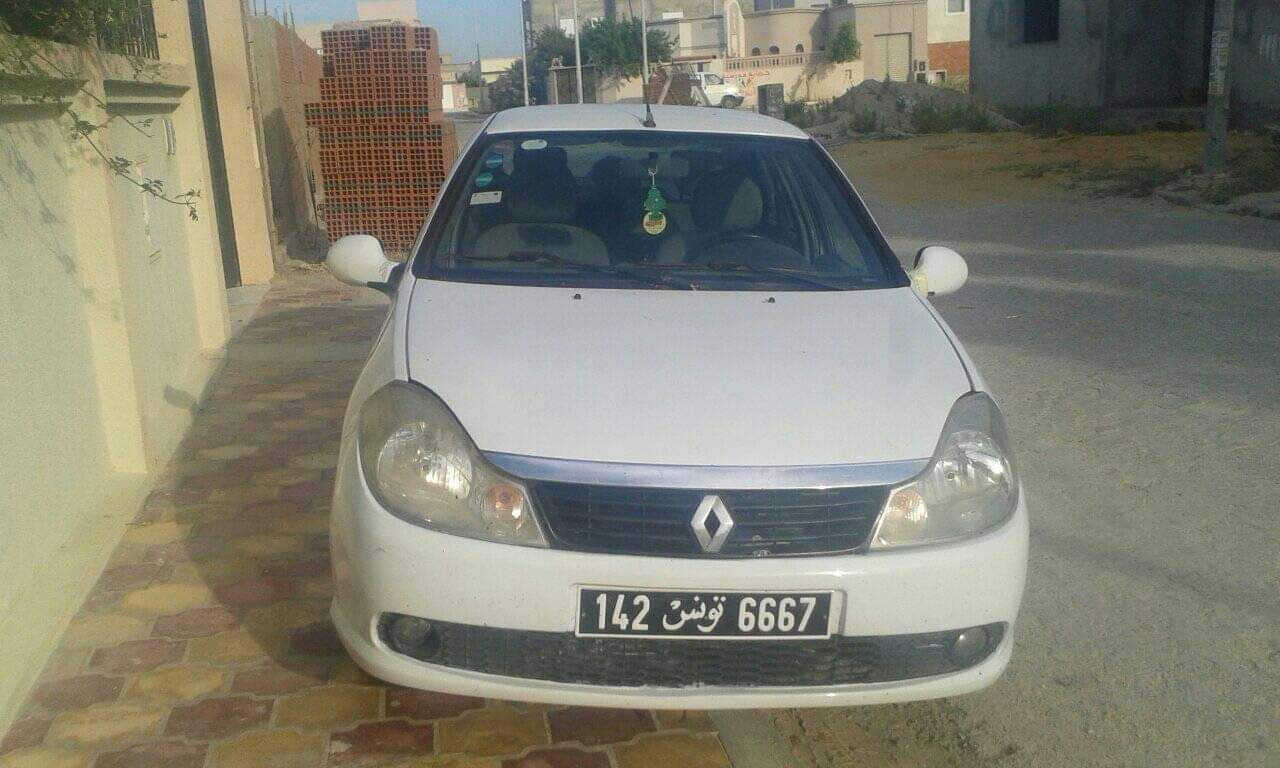LP: (572, 584, 832, 642)
